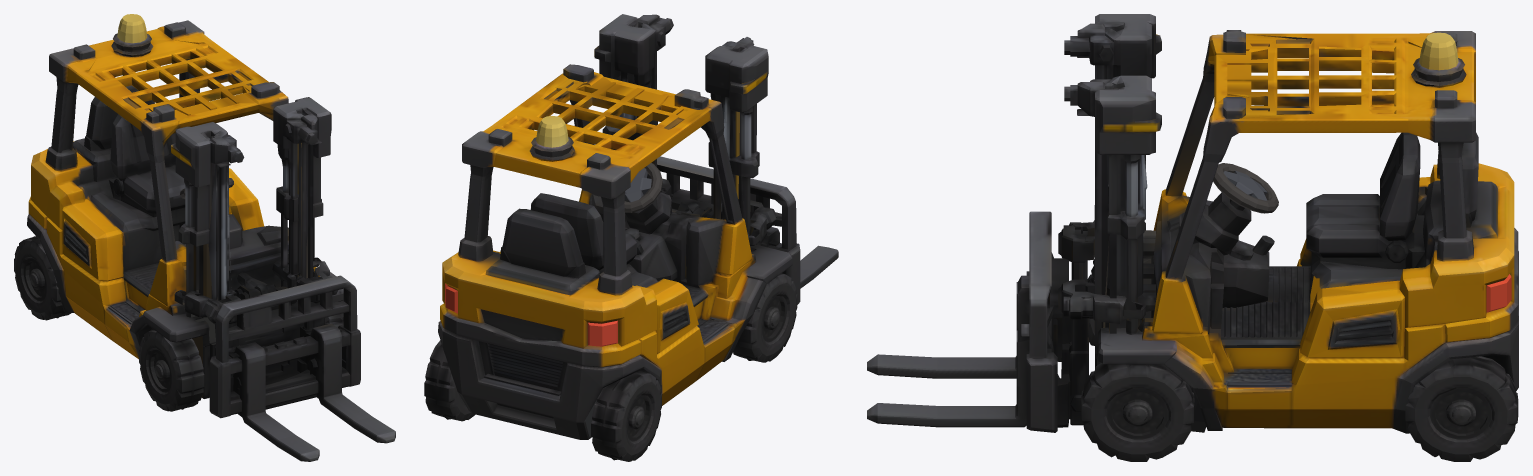
The model's file is Empilhadeira.fbx.
3 renders of one model, left to right at view 1: azimuth 30°, elevation 25°; view 2: azimuth 150°, elevation 25°; view 3: azimuth 270°, elevation 25°, orthographic. The views are drawn at different scales.
Parts seen in each view (by area): view 1: Base, elevacao_garfos, roda, roda.001, lampada de cima; view 2: Base, elevacao_garfos, roda.001, roda, roda.002, volante, lampada de cima; view 3: Base, elevacao_garfos, roda.002, roda.003, volante, lampada de cima.
Part boxes in pixels (x1,y1,x2,y2): Base: (27, 20, 343, 398); elevacao_garfos: (184, 261, 395, 461); roda: (139, 329, 204, 411); roda.001: (14, 236, 71, 320); lampada de cima: (117, 14, 147, 43); Base: (438, 14, 792, 439); elevacao_garfos: (657, 156, 838, 304); roda.001: (591, 371, 661, 461); roda: (733, 273, 797, 362); roda.002: (424, 340, 475, 421); volante: (624, 163, 662, 212); lampada de cima: (536, 116, 568, 147); Base: (1064, 14, 1518, 433); elevacao_garfos: (867, 211, 1126, 432); roda.002: (1405, 356, 1518, 461); roda.003: (1081, 363, 1194, 461); volante: (1213, 163, 1278, 213); lampada de cima: (1419, 32, 1458, 70).
Size of the model in its own units: 80.47 by 119 by 190.
